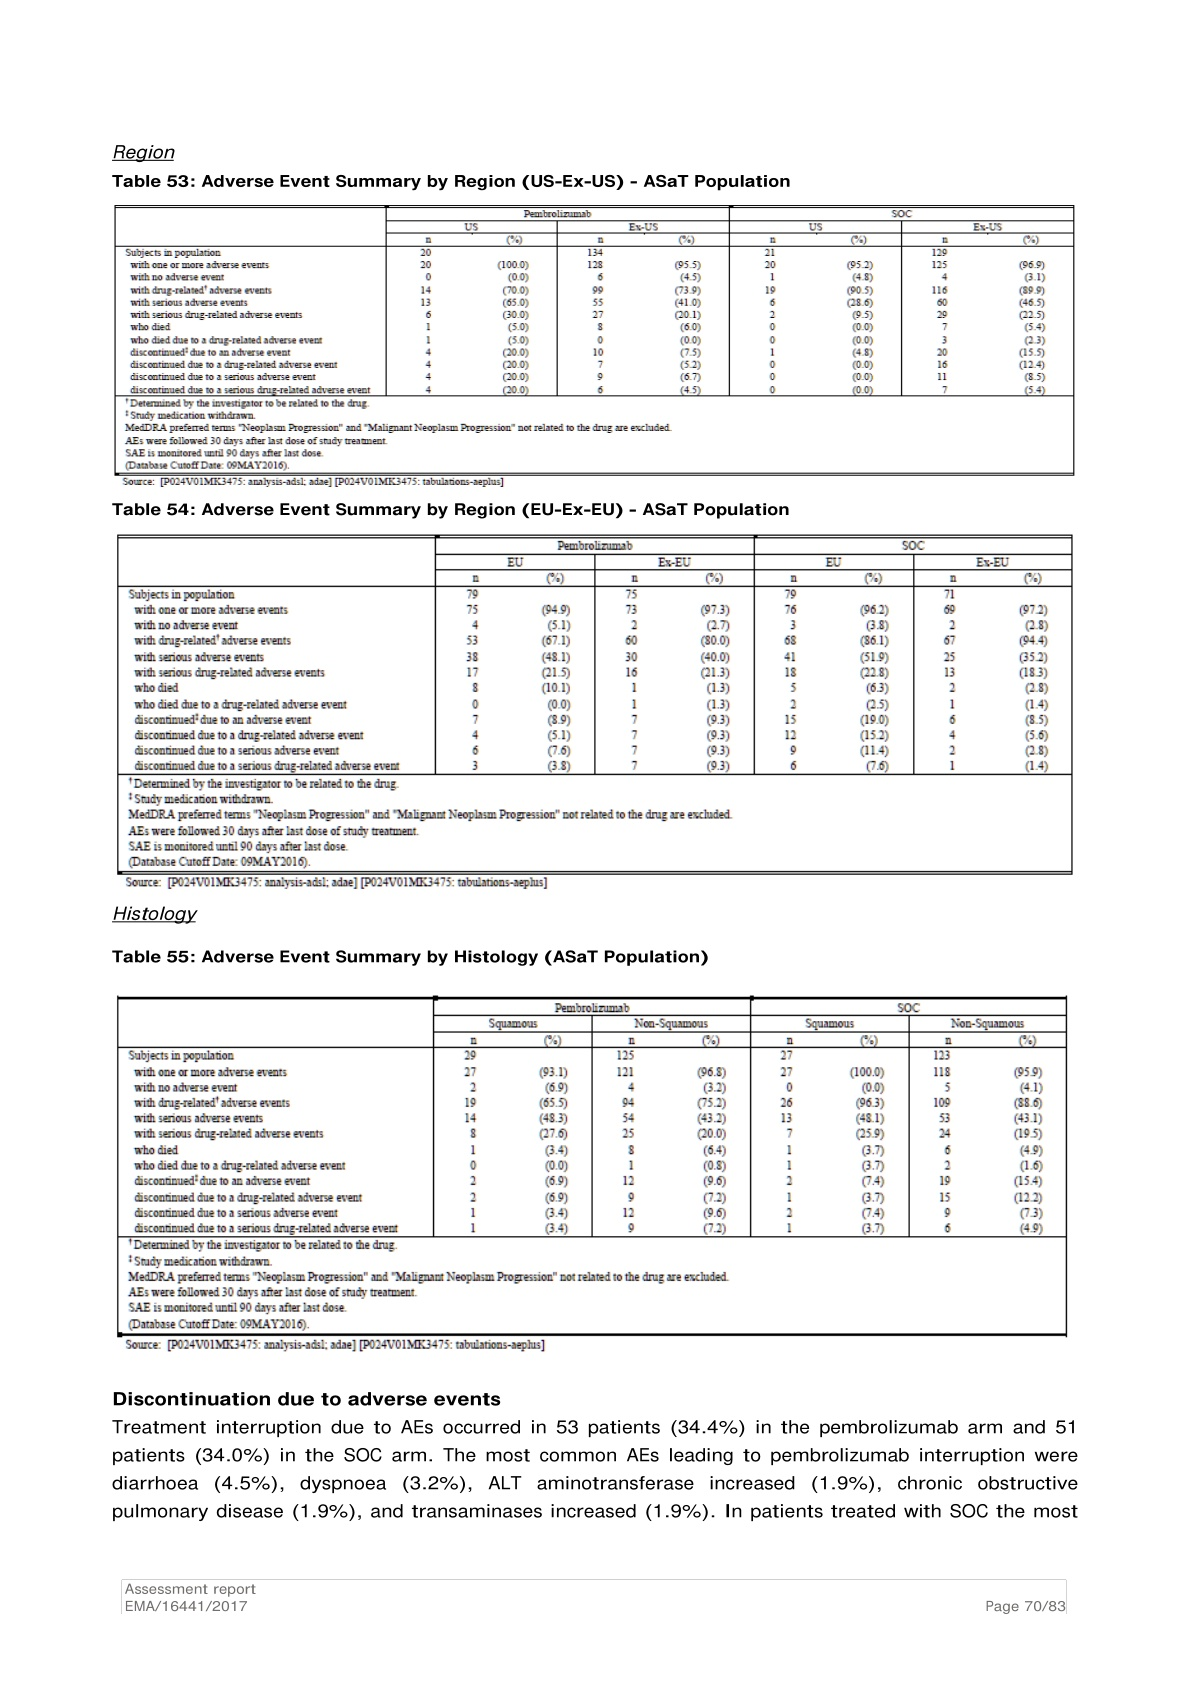partial_lined_merged_cells: (116, 534, 1075, 874), (116, 996, 1068, 1338), (113, 203, 1075, 477)
